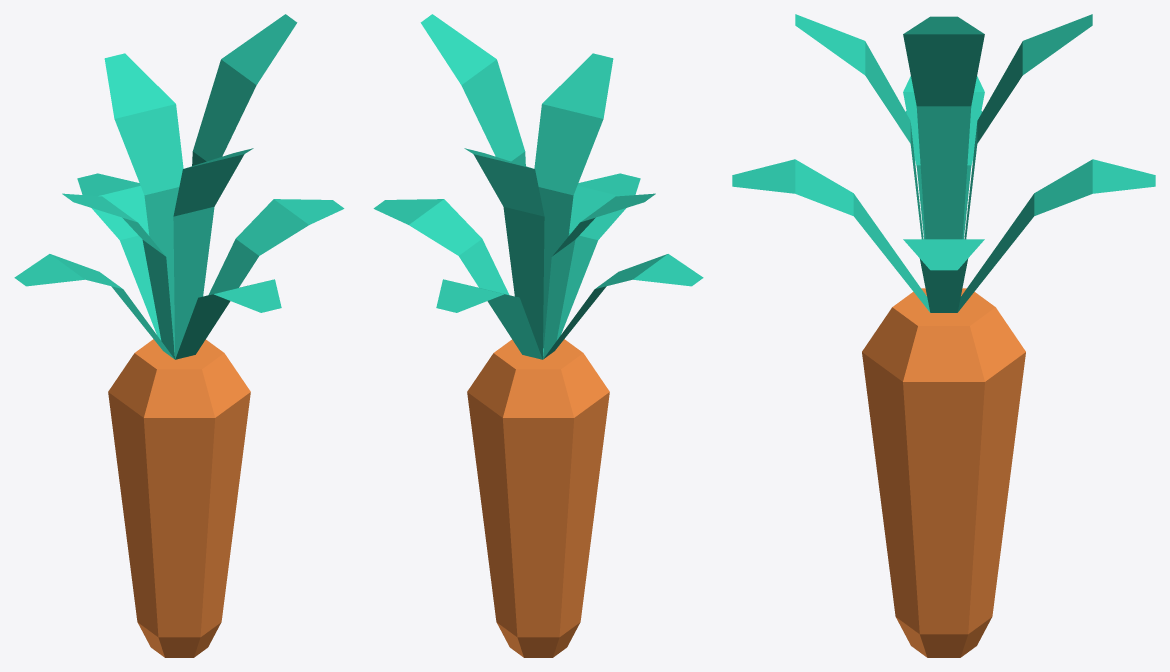
File: crop_carrot.obj
3 renders of one model, left to right at view 1: azimuth 30°, elevation 25°; view 2: azimuth 150°, elevation 25°; view 3: azimuth 270°, elevation 25°, orthographic. The views are drawn at different scales.
Parts seen in each view (by area): view 1: crop_carrot; view 2: crop_carrot; view 3: crop_carrot.
Boxes of the visible parts, x1,y1,x2,y2 form: crop_carrot: [14, 14, 344, 657]; crop_carrot: [373, 14, 703, 657]; crop_carrot: [732, 14, 1155, 657].
Bounding box in the file's own units: 0.3431 × 0.6194 × 0.3431.
